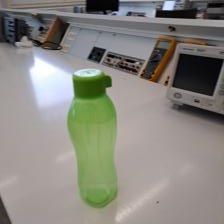bottle: (64, 67, 120, 209)
